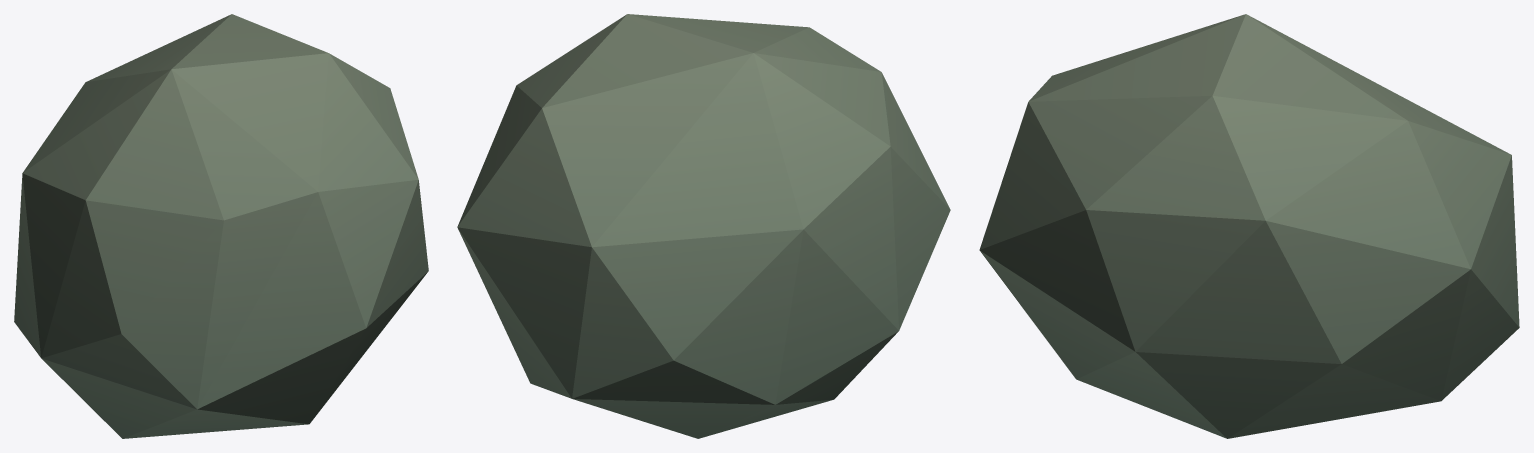
Rendered from Rock_Small_9.fbx.
3 views of the same model, side by side, from view 1: azimuth 30°, elevation 25°; view 2: azimuth 150°, elevation 25°; view 3: azimuth 270°, elevation 25° (orthographic). The views are drawn at different scales.
Visible parts, largest first — view 1: Rock_Small_9; view 2: Rock_Small_9; view 3: Rock_Small_9.
Boxes of the visible parts, x1=… form: Rock_Small_9: x1=14, y1=14, x2=428, y2=438; Rock_Small_9: x1=457, y1=14, x2=950, y2=438; Rock_Small_9: x1=979, y1=14, x2=1519, y2=438.
Size of the model in its own units: 88.17 by 82.57 by 104.
